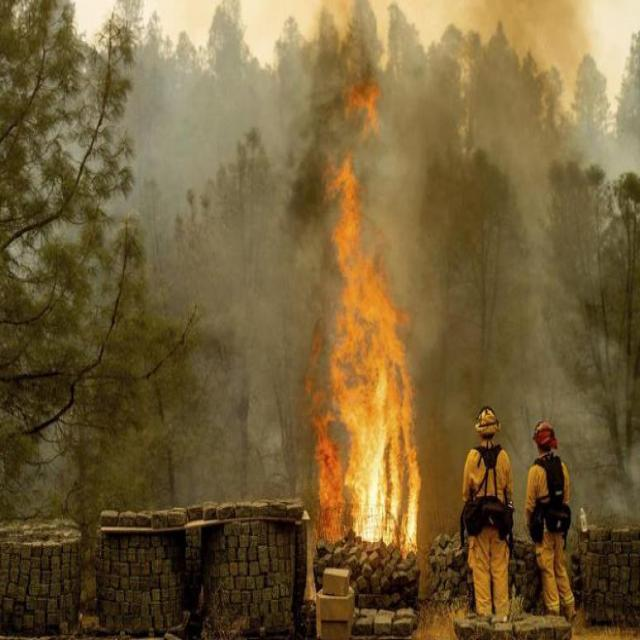fire: (316, 160, 424, 555)
